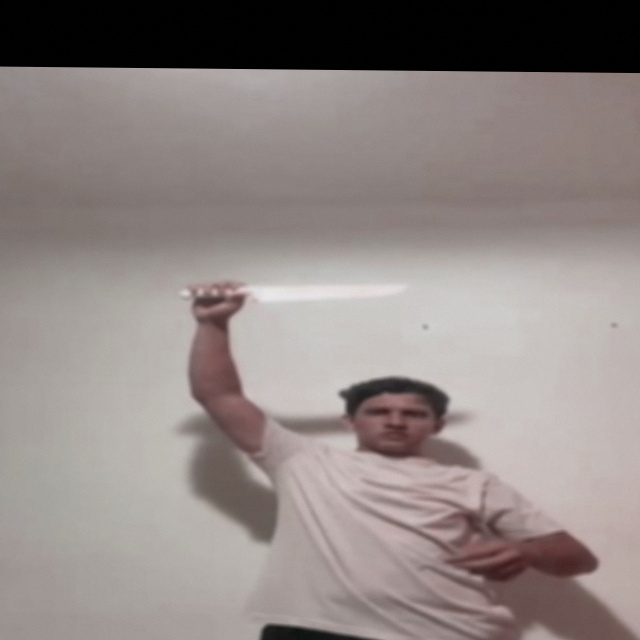Sharp-Object: (255, 280, 411, 301)
